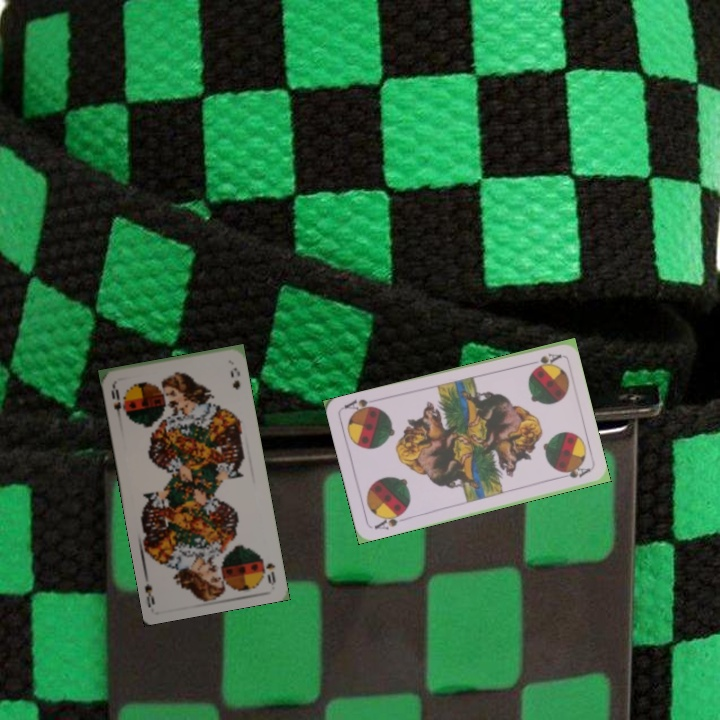SA: (370, 508, 407, 532), (523, 349, 563, 371)
SO: (107, 382, 124, 422), (262, 559, 278, 586)
